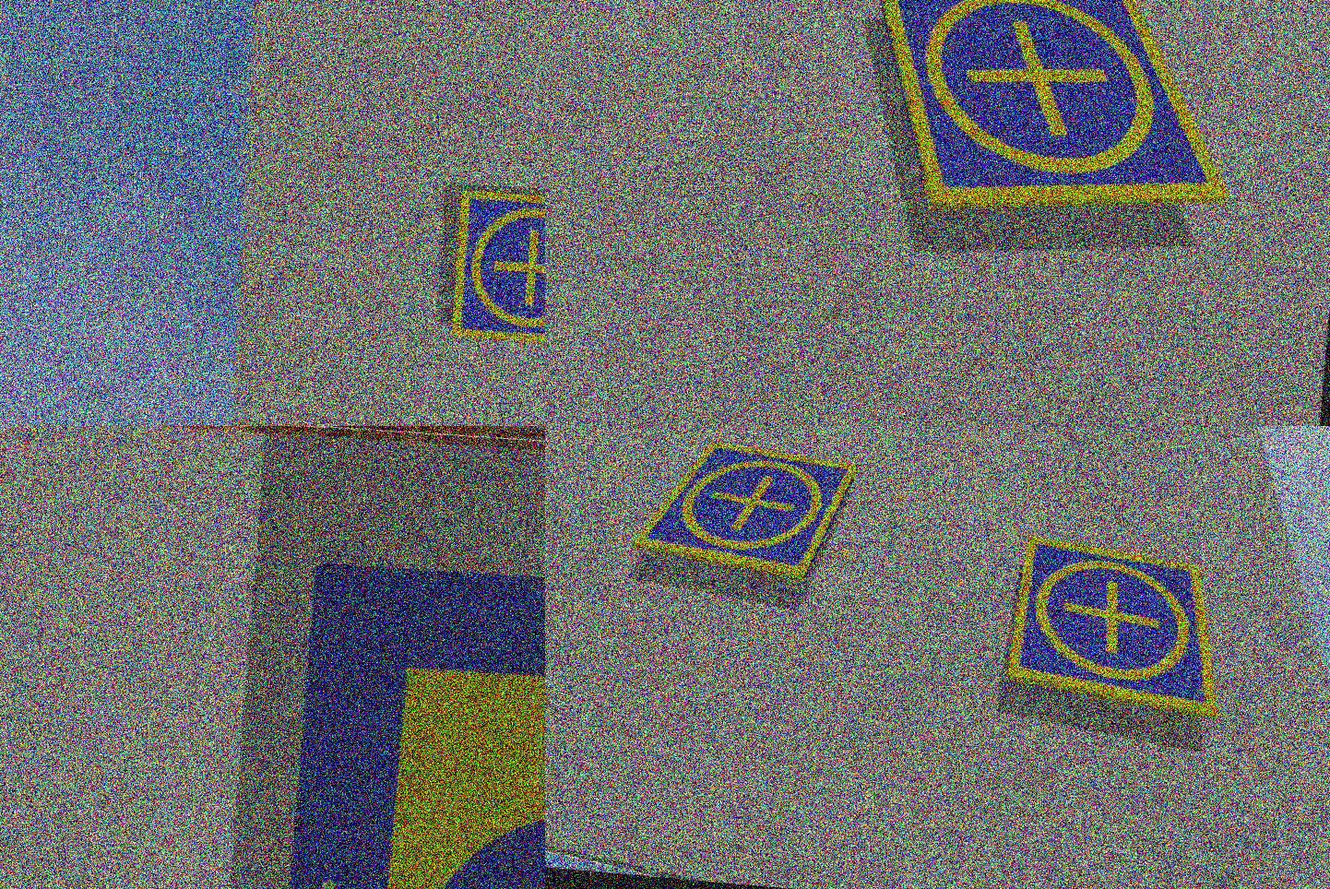large_base: (269, 550, 545, 889)
small_base: (853, 1, 1252, 236), (1003, 531, 1237, 720), (629, 432, 860, 584), (448, 184, 545, 350)
